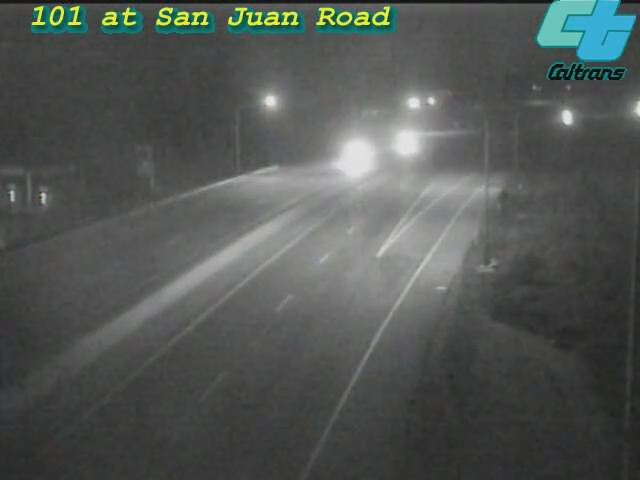vehicle: (324, 129, 374, 179), (378, 117, 428, 167), (541, 93, 591, 143)
